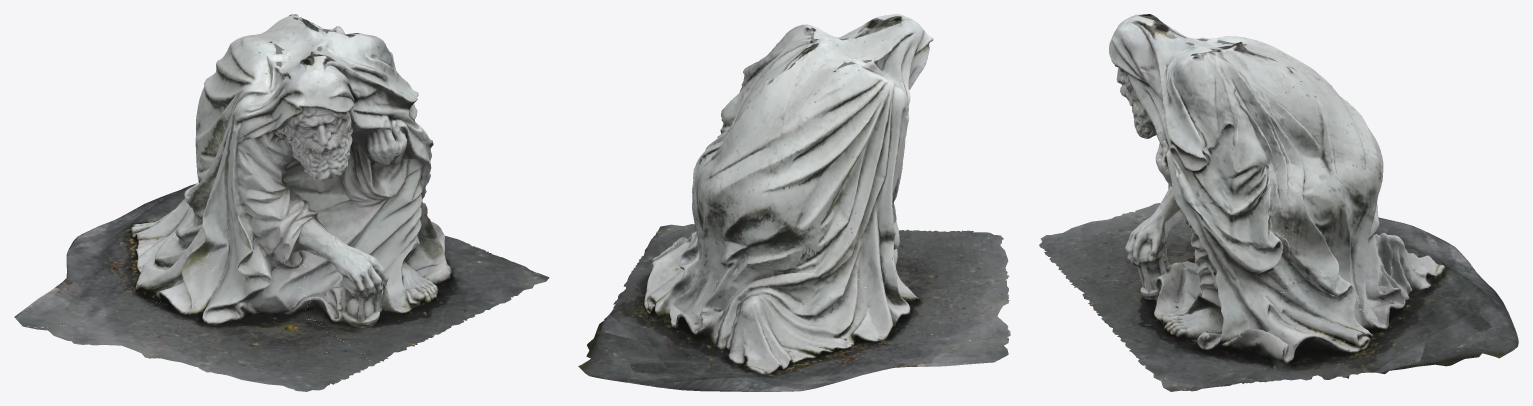
The model's file is chair-transformed.glb.
3 views of the same model, side by side, from view 1: azimuth 30°, elevation 25°; view 2: azimuth 150°, elevation 25°; view 3: azimuth 270°, elevation 25° (orthographic). The views are drawn at different scales.
Visible parts, largest first — view 1: Object_3, Object_4; view 2: Object_3, Object_4; view 3: Object_3, Object_4.
Boxes of the visible parts, box(x1,y1,x2,y2) form: Object_3: box(14, 14, 549, 364); Object_4: box(24, 15, 374, 391); Object_3: box(578, 14, 1008, 391); Object_4: box(646, 36, 1010, 354); Object_3: box(1068, 14, 1518, 391); Object_4: box(1039, 62, 1405, 347).
Bounding box in the file's own units: 30.88 × 18.89 × 30.46.
Materials: 1 (1 with a texture image).
